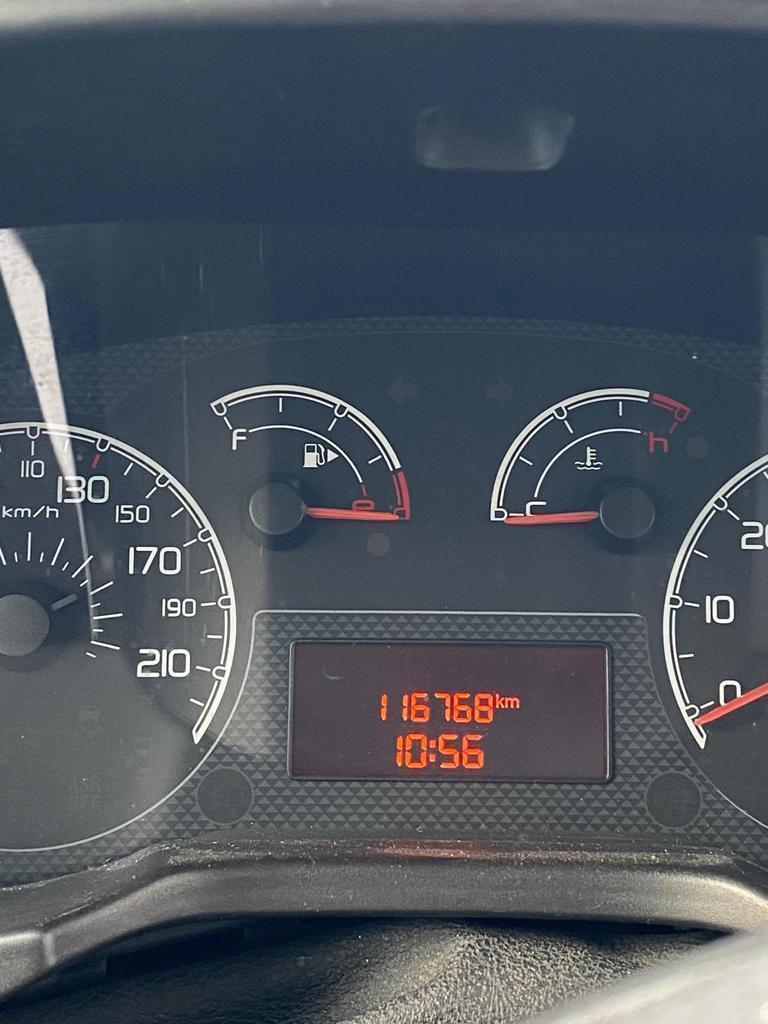0: (405, 732, 426, 769)
1: (378, 689, 390, 723), (394, 732, 404, 770), (399, 691, 409, 723)
5: (438, 731, 460, 770)
6: (460, 733, 485, 770), (410, 690, 431, 723), (453, 690, 472, 724)
7: (433, 689, 451, 725)
8: (474, 690, 494, 723)
X: (428, 738, 437, 764), (505, 695, 520, 709), (495, 692, 504, 709)
odometer: (284, 631, 626, 787)
